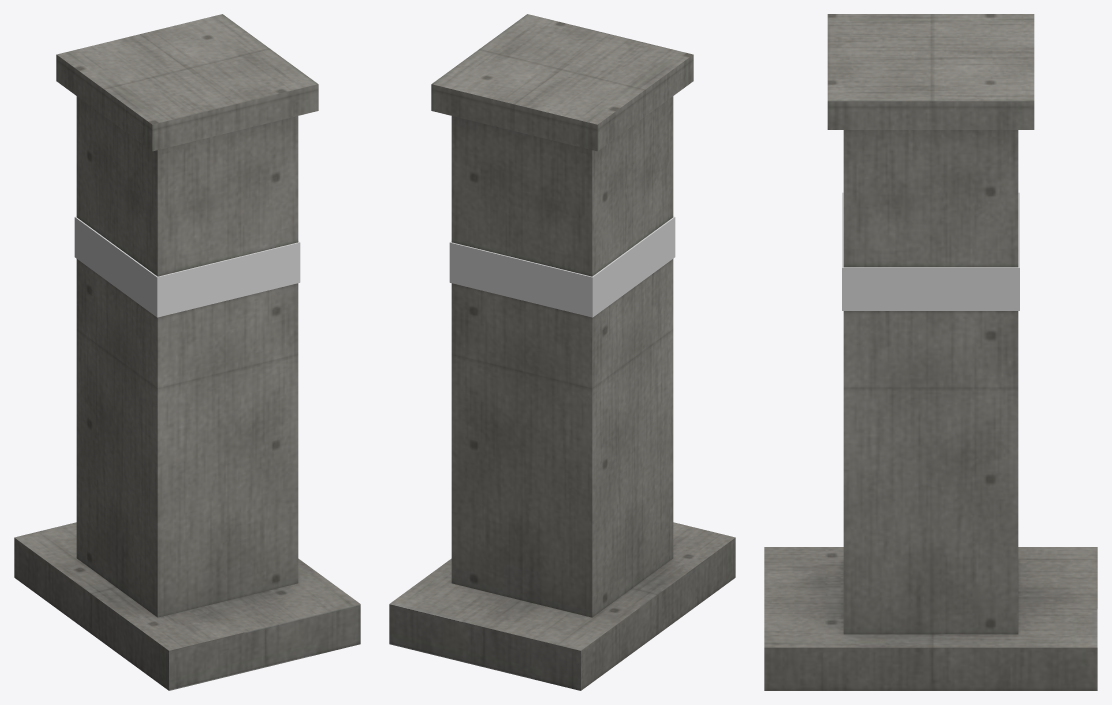
File: concrete_wall_post.glb
3 renders of one model, left to right at view 1: azimuth 30°, elevation 25°; view 2: azimuth 150°, elevation 25°; view 3: azimuth 270°, elevation 25°, orthographic. The views are drawn at different scales.
Visible parts, largest first — view 1: Post; view 2: Post; view 3: Post.
Boxes of the visible parts, x1,y1,x2,y2 form: Post: (14, 14, 360, 690); Post: (389, 14, 735, 690); Post: (764, 14, 1097, 690).
Bounding box in the file's own units: 1.5 × 4.05 × 2.1.
Materials: 2 (1 with a texture image).
